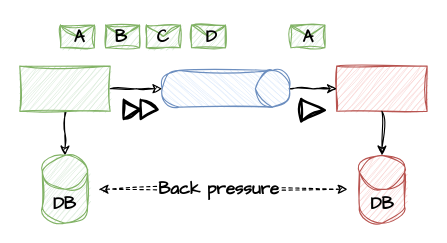
Some shapes in this 447 by 243 pixel diagram are drawn without their labels. Each missing label, with the box of its shape:
Backbone: (161, 69, 289, 107)
Consumer: (336, 65, 427, 111)
Producer: (19, 65, 110, 111)
